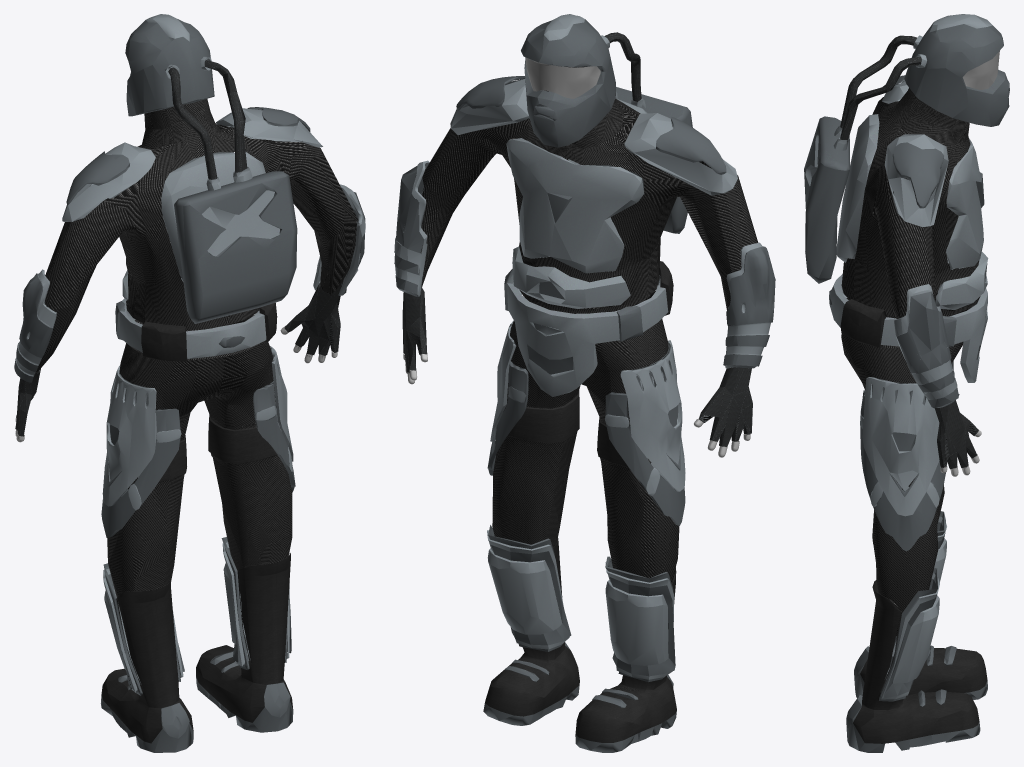
File: andar.0000.obj
3 renders of one model, left to right at view 1: azimuth 30°, elevation 25°; view 2: azimuth 150°, elevation 25°; view 3: azimuth 270°, elevation 25°, orthographic. The views are drawn at different scales.
Parts seen in each view (by area): view 1: personaje:CAMISETABUENA polySurface1, personaje:extrudedSurface2 polySurface1, personaje:PANTALON polySurface1, personaje:bota1 polySurface1, personaje:pPipe4 polySurface1, personaje:pCube4 polySurface1, personaje:cosoarmdaurapierna1 polySurface1, personaje:cinturon polySurface1, personaje:polySurface6 polySurface1, personaje:armadbota1 polySurface1, personaje:polySurface2 polySurface1, personaje:cosoarmadurapierna2 polySurface1 (+5 smaller); view 2: personaje:pPipe4 polySurface1, personaje:CAMISETABUENA polySurface1, personaje:PANTALON polySurface1, personaje:bota1 polySurface1, personaje:armadbota1 polySurface1, personaje:extrudedSurface2 polySurface1, personaje:cinturon polySurface1, personaje:pCube4 polySurface1, personaje:cosoarmdaurapierna1 polySurface1, personaje:polySurface2 polySurface1, personaje:polySurface6 polySurface1, personaje:gafas polySurface1 (+6 smaller); view 3: personaje:pPipe4 polySurface1, personaje:extrudedSurface2 polySurface1, personaje:CAMISETABUENA polySurface1, personaje:bota1 polySurface1, personaje:pCube4 polySurface1, personaje:PANTALON polySurface1, personaje:cinturon polySurface1, personaje:cosoarmadurapierna2 polySurface1, personaje:armadbota1 polySurface1, personaje:hombro1 polySurface1, personaje:partearmdBRAZO2 polySurface1, personaje:polySurface11 polySurface1 (+1 smaller).
Part boxes in pixels (x1=…): personaje:CAMISETABUENA polySurface1: x1=36, y1=99, x2=358, y2=372; personaje:extrudedSurface2 polySurface1: x1=125, y1=14, x2=297, y2=323; personaje:PANTALON polySurface1: x1=107, y1=315, x2=292, y2=614; personaje:bota1 polySurface1: x1=100, y1=553, x2=293, y2=752; personaje:pPipe4 polySurface1: x1=15, y1=108, x2=365, y2=436; personaje:pCube4 polySurface1: x1=101, y1=346, x2=293, y2=695; personaje:cosoarmdaurapierna1 polySurface1: x1=102, y1=365, x2=181, y2=510; personaje:cinturon polySurface1: x1=115, y1=278, x2=277, y2=361; personaje:polySurface6 polySurface1: x1=158, y1=415, x2=277, y2=482; personaje:armadbota1 polySurface1: x1=103, y1=542, x2=289, y2=692; personaje:polySurface2 polySurface1: x1=14, y1=273, x2=52, y2=382; personaje:cosoarmadurapierna2 polySurface1: x1=242, y1=381, x2=295, y2=492; personaje:pPipe4 polySurface1: x1=394, y1=79, x2=752, y2=446; personaje:CAMISETABUENA polySurface1: x1=420, y1=66, x2=758, y2=354; personaje:PANTALON polySurface1: x1=492, y1=275, x2=679, y2=582; personaje:bota1 polySurface1: x1=483, y1=538, x2=676, y2=752; personaje:armadbota1 polySurface1: x1=487, y1=530, x2=674, y2=679; personaje:extrudedSurface2 polySurface1: x1=521, y1=14, x2=692, y2=233; personaje:cinturon polySurface1: x1=504, y1=261, x2=673, y2=396; personaje:pCube4 polySurface1: x1=488, y1=320, x2=685, y2=682; personaje:cosoarmdaurapierna1 polySurface1: x1=605, y1=340, x2=685, y2=495; personaje:polySurface2 polySurface1: x1=723, y1=246, x2=775, y2=366; personaje:polySurface6 polySurface1: x1=508, y1=390, x2=628, y2=467; personaje:gafas polySurface1: x1=525, y1=58, x2=601, y2=98; personaje:pPipe4 polySurface1: x1=836, y1=81, x2=988, y2=469; personaje:extrudedSurface2 polySurface1: x1=804, y1=14, x2=1009, y2=283; personaje:CAMISETABUENA polySurface1: x1=841, y1=88, x2=980, y2=349; personaje:bota1 polySurface1: x1=846, y1=580, x2=987, y2=752; personaje:pCube4 polySurface1: x1=860, y1=361, x2=953, y2=701; personaje:PANTALON polySurface1: x1=841, y1=292, x2=971, y2=635; personaje:cinturon polySurface1: x1=829, y1=269, x2=987, y2=382; personaje:cosoarmadurapierna2 polySurface1: x1=860, y1=384, x2=947, y2=551; personaje:armadbota1 polySurface1: x1=881, y1=516, x2=946, y2=699; personaje:hombro1 polySurface1: x1=892, y1=142, x2=943, y2=208; personaje:partearmdBRAZO2 polySurface1: x1=893, y1=284, x2=959, y2=407; personaje:polySurface11 polySurface1: x1=840, y1=35, x2=916, y2=128.
Size of the model in its own units: 5.09 by 9.63 by 2.58.
